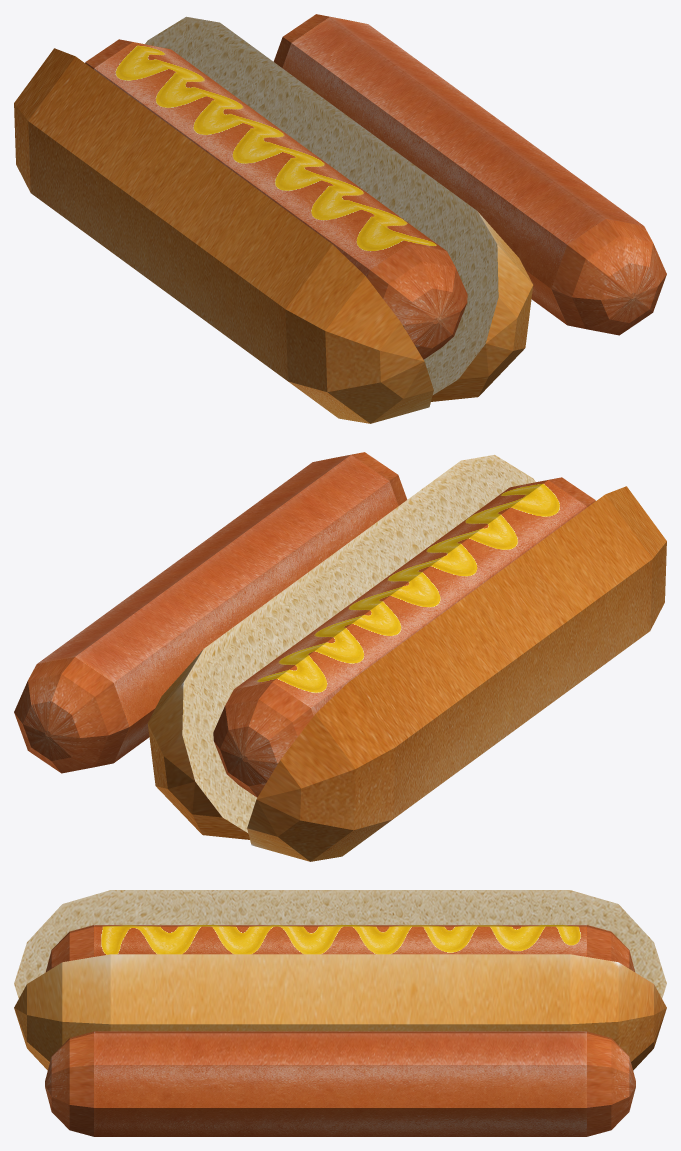
The model's file is SM_HotDog.fbx.
3 renders of one model, top to bottom at view 1: azimuth 30°, elevation 25°; view 2: azimuth 150°, elevation 25°; view 3: azimuth 270°, elevation 25°, orthographic. The views are drawn at different scales.
Parts seen in each view (by area): view 1: Bun02, Sausage, Bun01, Sausage_with_mustard; view 2: Bun02, Sausage, Bun01, Sausage_with_mustard; view 3: Sausage, Bun01, Bun02, Sausage_with_mustard.
Boxes of the visible parts, left/top/right/bottom form: Bun02: left=14, top=48, right=433, bottom=423; Sausage: left=273, top=14, right=666, bottom=335; Bun01: left=145, top=16, right=533, bottom=401; Sausage_with_mustard: left=85, top=39, right=467, bottom=359; Bun02: left=247, top=486, right=666, bottom=861; Sausage: left=14, top=452, right=407, bottom=773; Bun01: left=147, top=454, right=535, bottom=839; Sausage_with_mustard: left=213, top=477, right=595, bottom=797; Sausage: left=45, top=1031, right=635, bottom=1136; Bun01: left=14, top=954, right=666, bottom=1070; Bun02: left=14, top=890, right=666, bottom=998; Sausage_with_mustard: left=46, top=925, right=634, bottom=971.
Bounding box in the file's own units: 19.78 × 11.42 × 5.24.
Materials: 1 (1 with a texture image).
